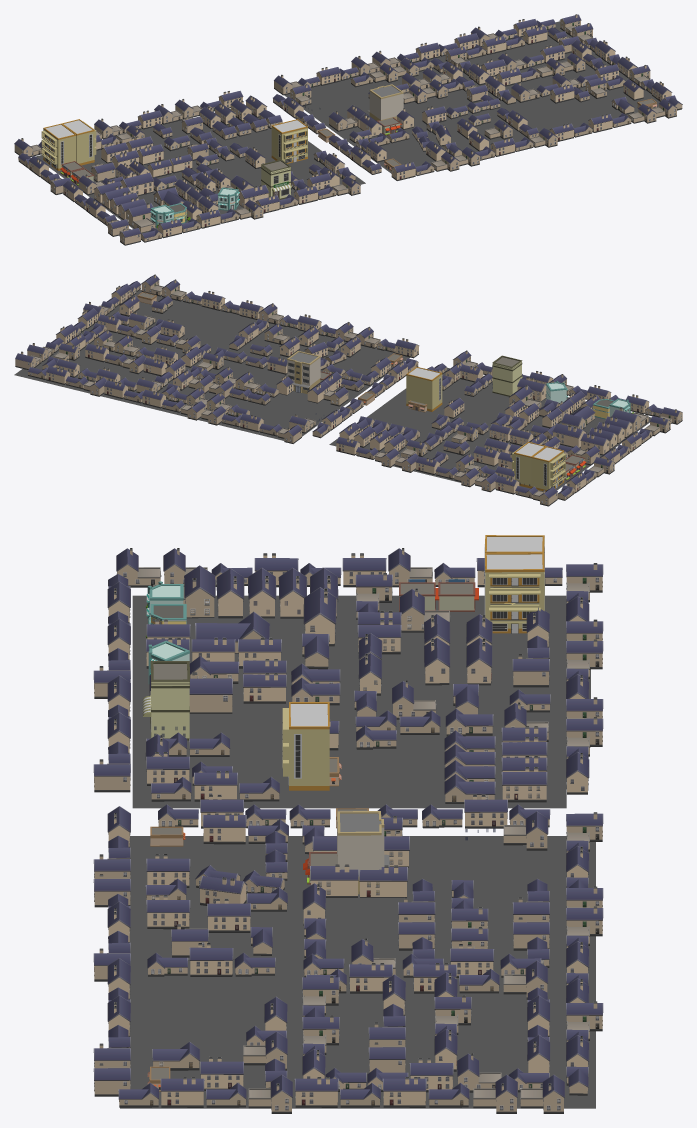
The model's file is homes-optimized.glb.
3 renders of one model, top to bottom at view 1: azimuth 30°, elevation 25°; view 2: azimuth 150°, elevation 25°; view 3: azimuth 270°, elevation 25°, orthographic. The views are drawn at different scales.
Visible parts, largest first — view 1: Road Tile_Plane.009, Road Tile_Plane.008, Building_Residential_color01_Cube.002, Building_Residential_color01_Cube.003, Road Tile_Plane.006, Building Sky_small_color01_Cube.001, Road Tile_Plane.002, Building_Restaurant_Cube.001, Road Tile_Plane.005, Building_Residential_color01_Cube.004, Road Tile_Plane.004, Object_2.201 (+24 smaller); view 2: Road Tile_Plane.008, Road Tile_Plane.009, Road Tile_Plane.004, Road Tile_Plane.002, Building_Residential_color01_Cube.002, Building_Residential_color01_Cube.003, Road Tile_Plane.005, Building Sky_small_color01_Cube.001, Building_Restaurant_Cube.001, Road Tile_Plane.006, Building_Residential_color01_Cube.004, Object_2.204 (+9 smaller); view 3: Road Tile_Plane.008, Road Tile_Plane.009, Road Tile_Plane.005, Road Tile_Plane.002, Road Tile_Plane.004, Road Tile_Plane.006, Road Tile_Plane.007, Building_Residential_color01_Cube.004, Road Tile_Plane.001, Building_Residential_color01_Cube.002, Building_Restaurant_Cube.001, Building Sky_small_color01_Cube.001 (+73 smaller).
Part boxes in pixels (x1,y1,x2,y2): Road Tile_Plane.009: [417, 21, 681, 141]; Road Tile_Plane.008: [284, 56, 516, 173]; Building_Residential_color01_Cube.002: [271, 119, 307, 163]; Building_Residential_color01_Cube.003: [41, 123, 76, 170]; Road Tile_Plane.006: [115, 119, 249, 171]; Building Sky_small_color01_Cube.001: [367, 84, 403, 120]; Road Tile_Plane.002: [156, 154, 280, 214]; Building_Restaurant_Cube.001: [261, 159, 291, 199]; Road Tile_Plane.005: [193, 109, 310, 160]; Building_Residential_color01_Cube.004: [62, 119, 96, 165]; Road Tile_Plane.004: [240, 143, 365, 196]; Object_2.201: [125, 203, 155, 232]; Road Tile_Plane.008: [139, 320, 409, 440]; Road Tile_Plane.009: [14, 289, 272, 405]; Road Tile_Plane.004: [383, 365, 492, 420]; Road Tile_Plane.002: [452, 392, 578, 446]; Building_Residential_color01_Cube.002: [406, 366, 442, 411]; Building_Residential_color01_Cube.003: [531, 446, 565, 491]; Road Tile_Plane.005: [329, 405, 451, 457]; Building Sky_small_color01_Cube.001: [287, 351, 320, 393]; Building_Restaurant_Cube.001: [492, 355, 522, 396]; Road Tile_Plane.006: [393, 416, 534, 482]; Building_Residential_color01_Cube.004: [512, 442, 546, 488]; Object_2.204: [552, 423, 586, 448]; Road Tile_Plane.008: [129, 836, 595, 986]; Road Tile_Plane.009: [120, 960, 595, 1108]; Road Tile_Plane.005: [347, 738, 566, 808]; Road Tile_Plane.002: [132, 656, 399, 740]; Road Tile_Plane.004: [132, 741, 351, 808]; Road Tile_Plane.006: [329, 662, 590, 747]; Road Tile_Plane.007: [347, 595, 566, 664]; Building_Residential_color01_Cube.004: [484, 552, 544, 633]; Road Tile_Plane.001: [132, 595, 351, 664]; Building_Residential_color01_Cube.002: [282, 702, 329, 790]; Building_Restaurant_Cube.001: [142, 661, 189, 740]; Building Sky_small_color01_Cube.001: [337, 811, 389, 894].
Size of the model in its own units: 202 by 11.55 by 80.14.
433 materials, 239 textured.
